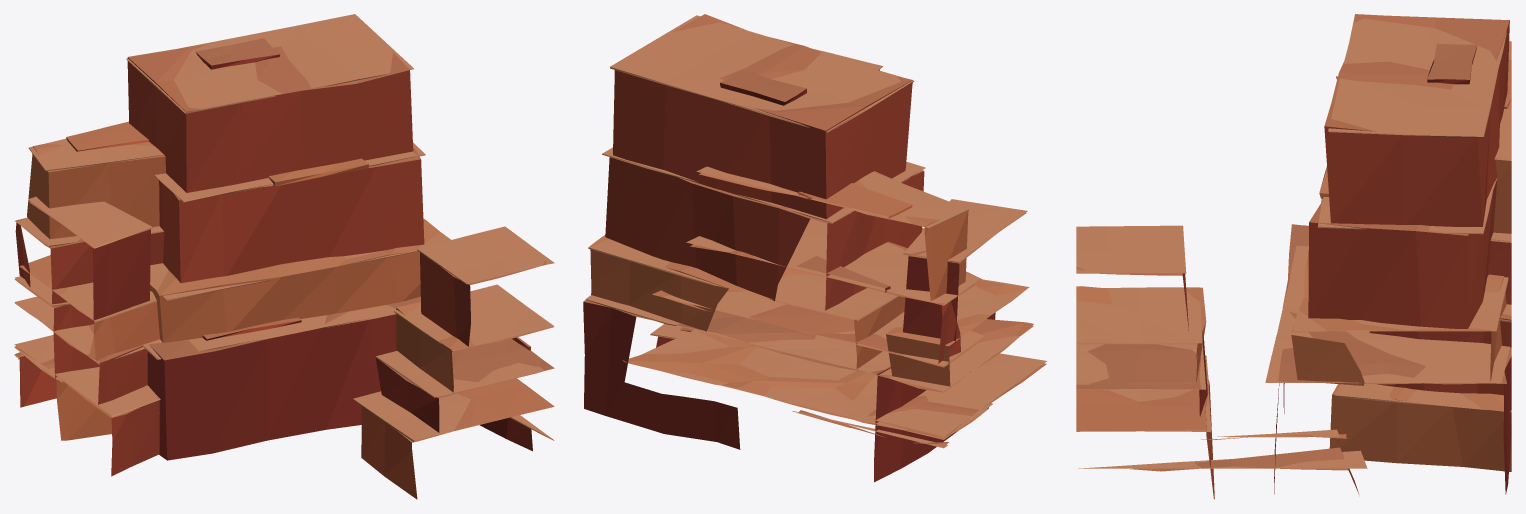
3 views of the same model, side by side, from view 1: azimuth 30°, elevation 25°; view 2: azimuth 150°, elevation 25°; view 3: azimuth 270°, elevation 25° (orthographic). The views are drawn at different scales.
Parts seen in each view (by area): view 1: scene.2.5; view 2: scene.2.5; view 3: scene.2.5.
Part boxes in pixels (x1,y1,x2,y2): scene.2.5: (14, 14, 554, 499); scene.2.5: (583, 14, 1046, 482); scene.2.5: (1076, 14, 1511, 499).
Bounding box in the file's own units: 62.5 × 57.14 × 62.5.
